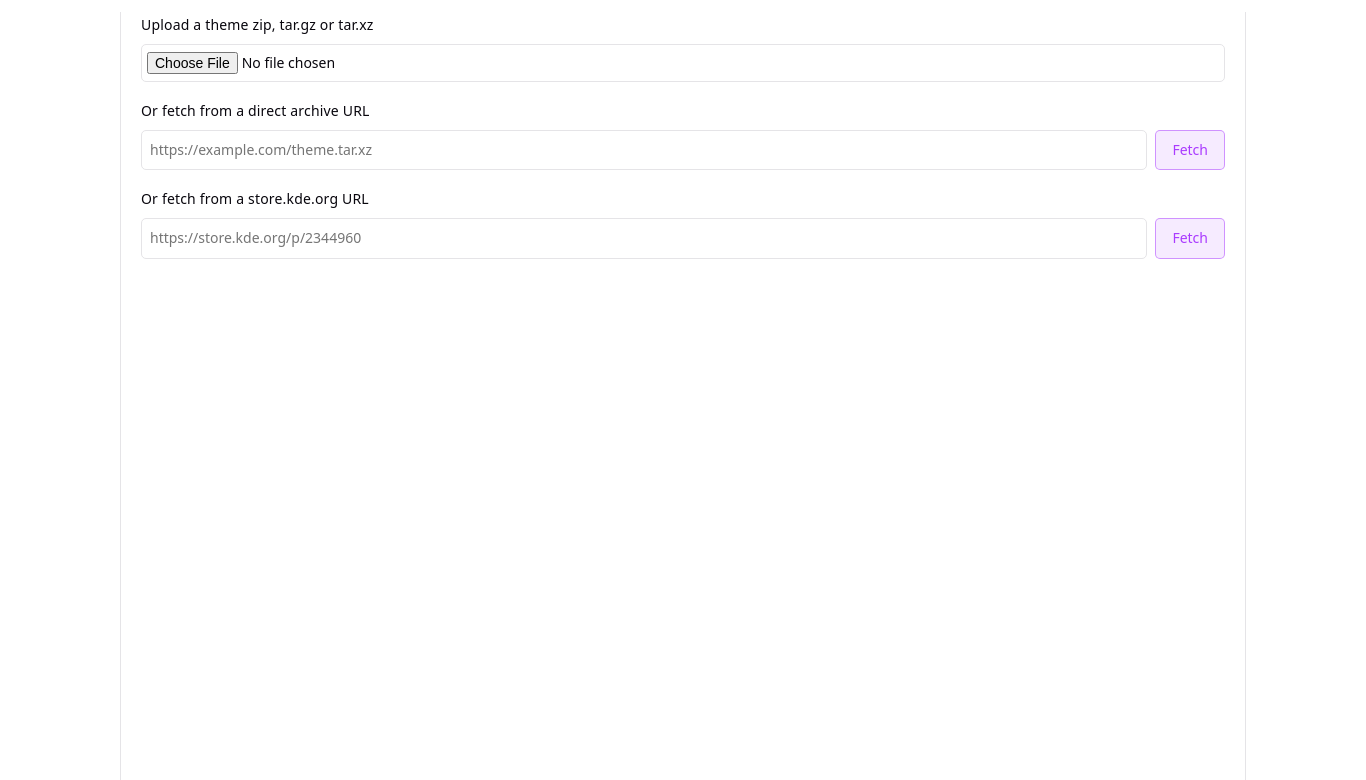
Test: ThemeLoader › shows an inline error when the URL fetch responds with a non-2xx status
In the field labelled "Or fetch from a direct archive URL": (644,150) [141, 130, 1147, 170], type "https://example.com/theme.zip"
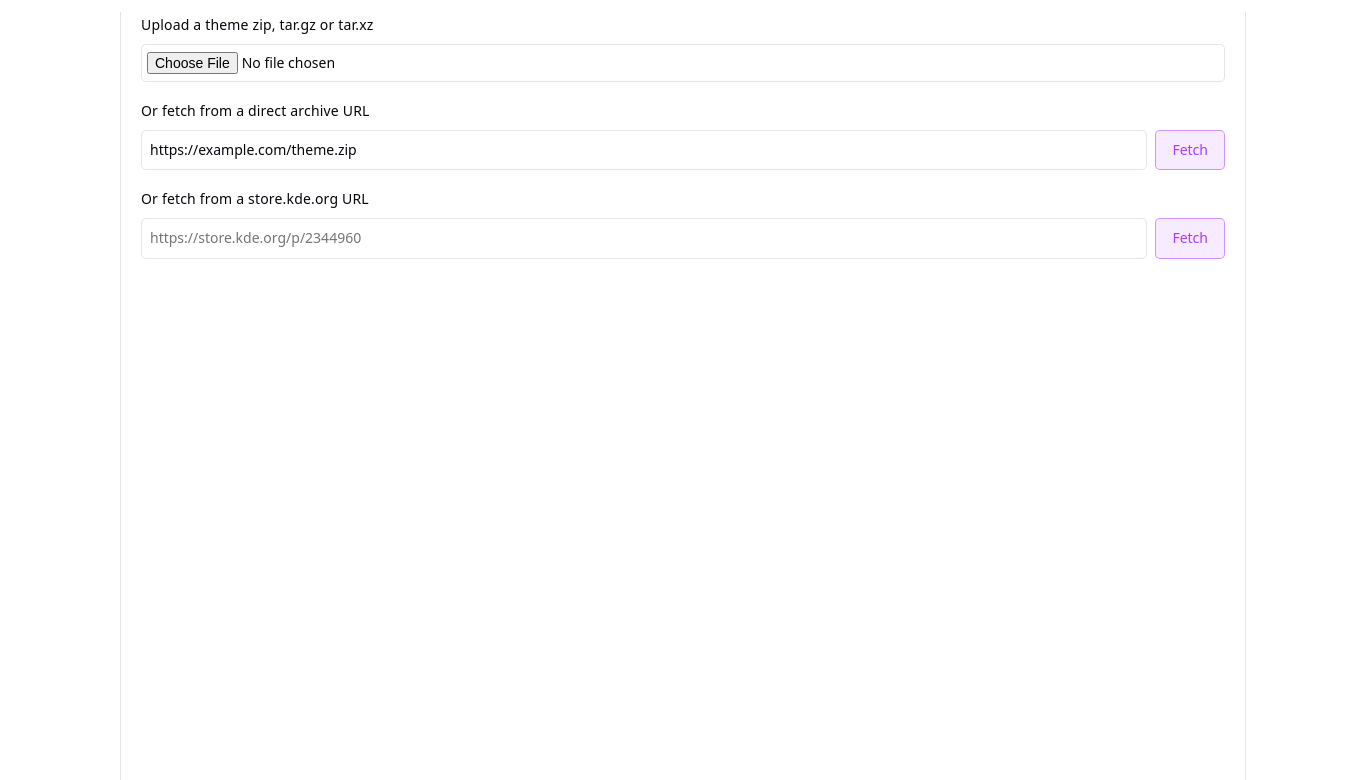
Click the button with aria-label "fetch archive url": (1190,150) [1155, 130, 1225, 170]
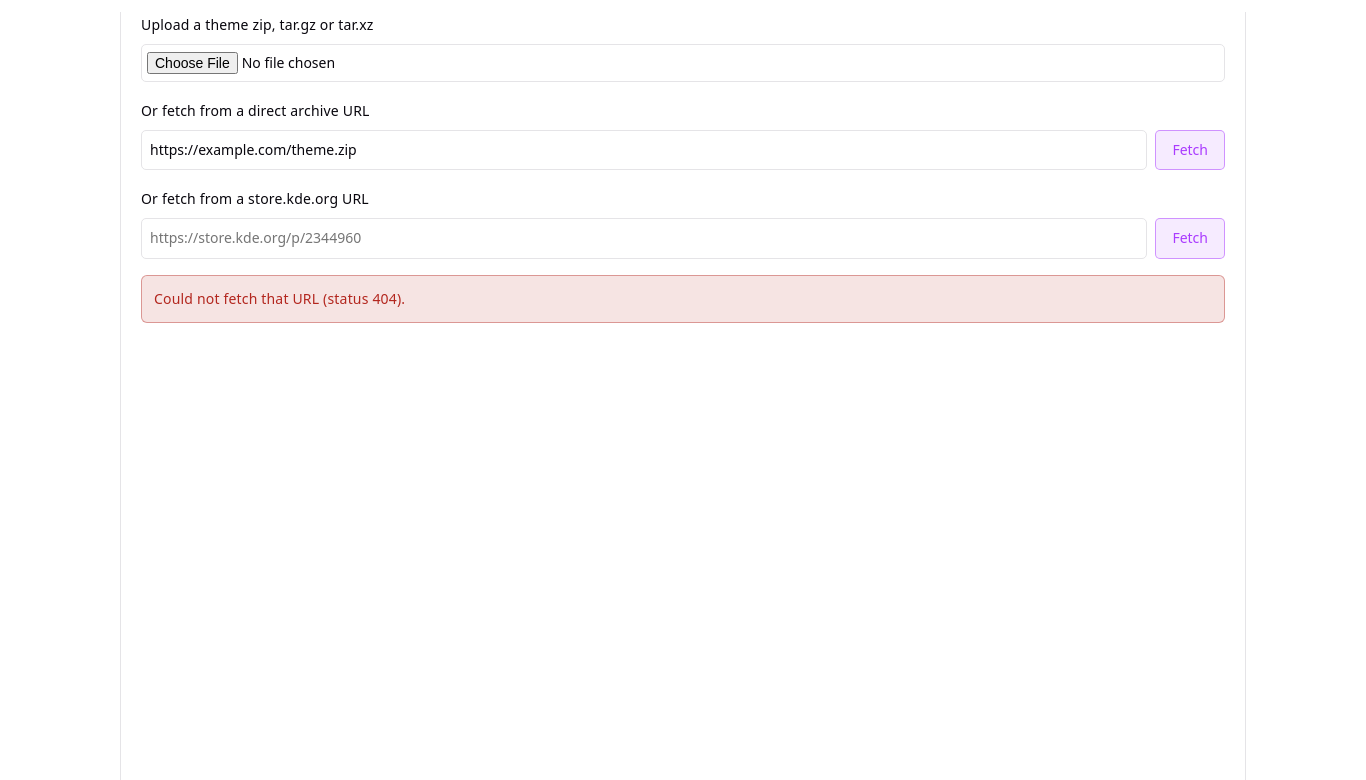
Check: the message "Could not fetch that URL (status 404)." is shown, box [141, 275, 1225, 323]
Check: the message shows "404", box [154, 289, 405, 308]
